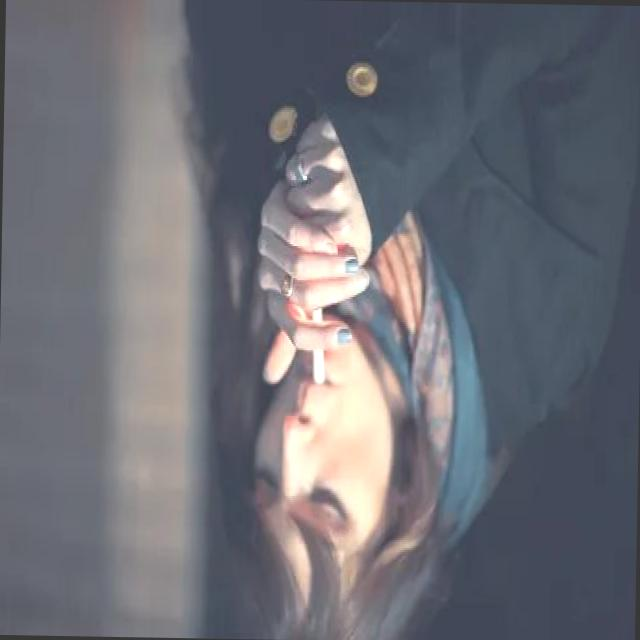smoke: (304, 298, 331, 388)
